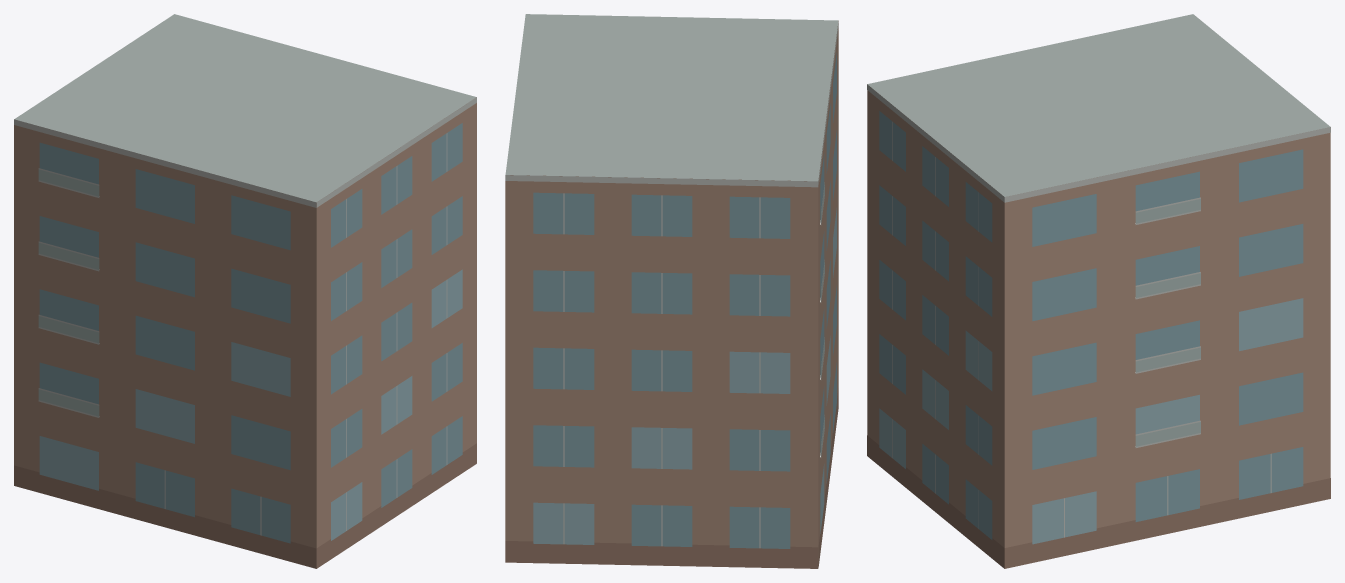
The model's file is survey-upis-32932598.glb.
3 renders of one model, left to right at view 1: azimuth 30°, elevation 25°; view 2: azimuth 150°, elevation 25°; view 3: azimuth 270°, elevation 25°, orthographic. The views are drawn at different scales.
Visible parts, largest first — view 1: survey-upis-32932598.tmp; view 2: survey-upis-32932598.tmp; view 3: survey-upis-32932598.tmp.
Part boxes in pixels (x1=…): survey-upis-32932598.tmp: x1=14, y1=14, x2=476, y2=568; survey-upis-32932598.tmp: x1=505, y1=14, x2=838, y2=568; survey-upis-32932598.tmp: x1=867, y1=14, x2=1330, y2=568.
Size of the model in its own units: 16.8 by 15.9 by 17.98.
